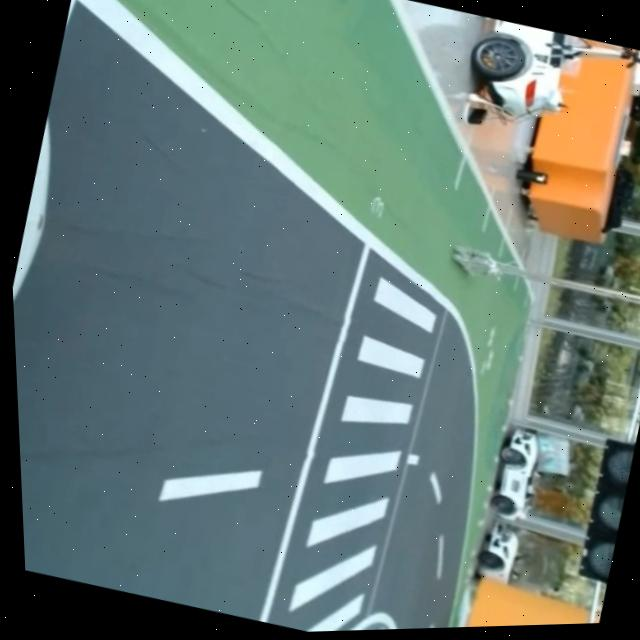traffic-light: (563, 427, 640, 593)
